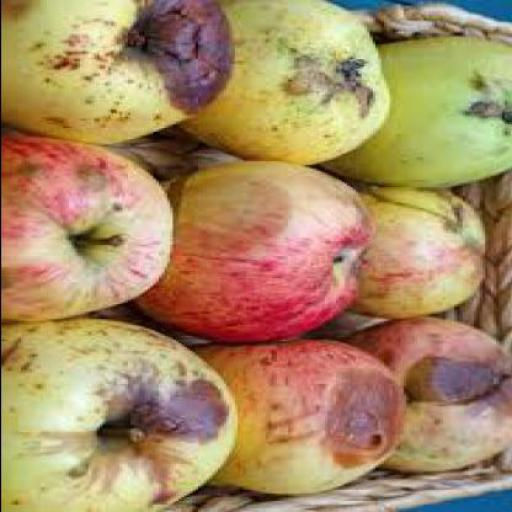biodegradable: (3, 317, 239, 510), (144, 156, 378, 342), (168, 1, 394, 163), (2, 0, 236, 145), (202, 334, 408, 494), (3, 134, 180, 319), (330, 34, 512, 184), (343, 314, 511, 472), (346, 182, 490, 315)
